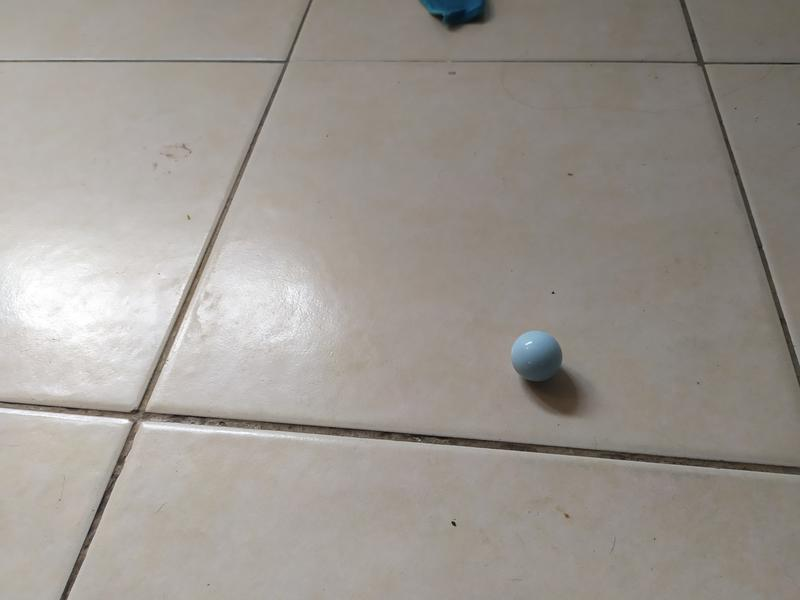Warning: (509, 327, 566, 385)
